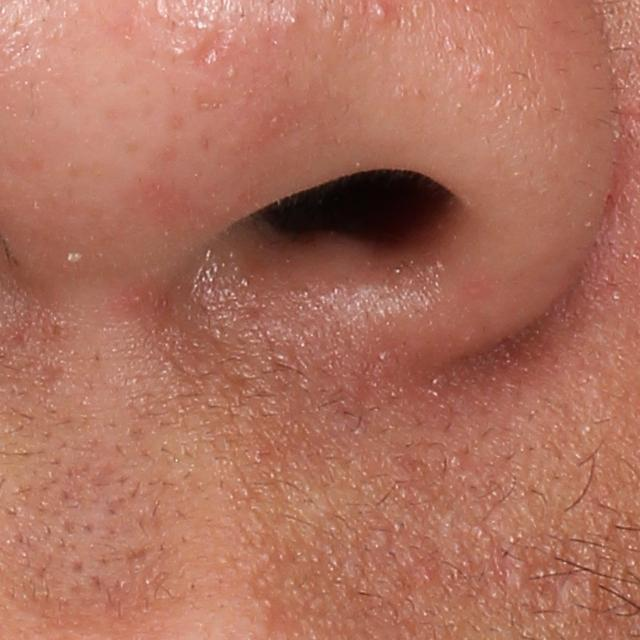atrophic_scar: (184, 26, 232, 72)
comedo: (278, 5, 303, 30)
